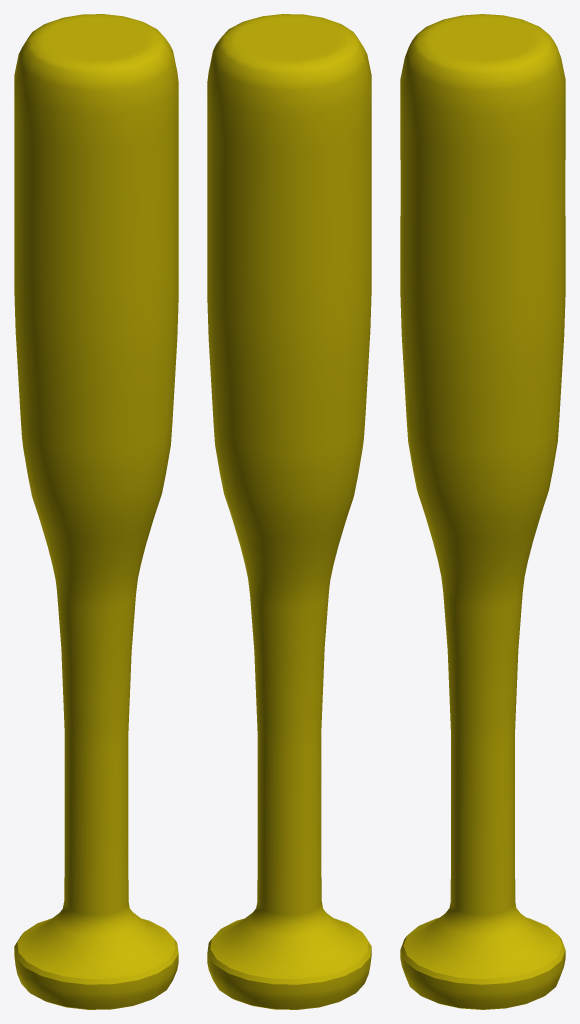
File: BatGold.fbx
3 renders of one model, left to right at view 1: azimuth 30°, elevation 25°; view 2: azimuth 150°, elevation 25°; view 3: azimuth 270°, elevation 25°, orthographic.
Parts seen in each view (by area): view 1: pCylinder1; view 2: pCylinder1; view 3: pCylinder1.
Boxes of the visible parts, bbox=[...] form: pCylinder1: bbox=[14, 14, 178, 1009]; pCylinder1: bbox=[207, 14, 371, 1009]; pCylinder1: bbox=[400, 14, 565, 1009].
Size of the model in its own units: 2 by 12.56 by 2.
